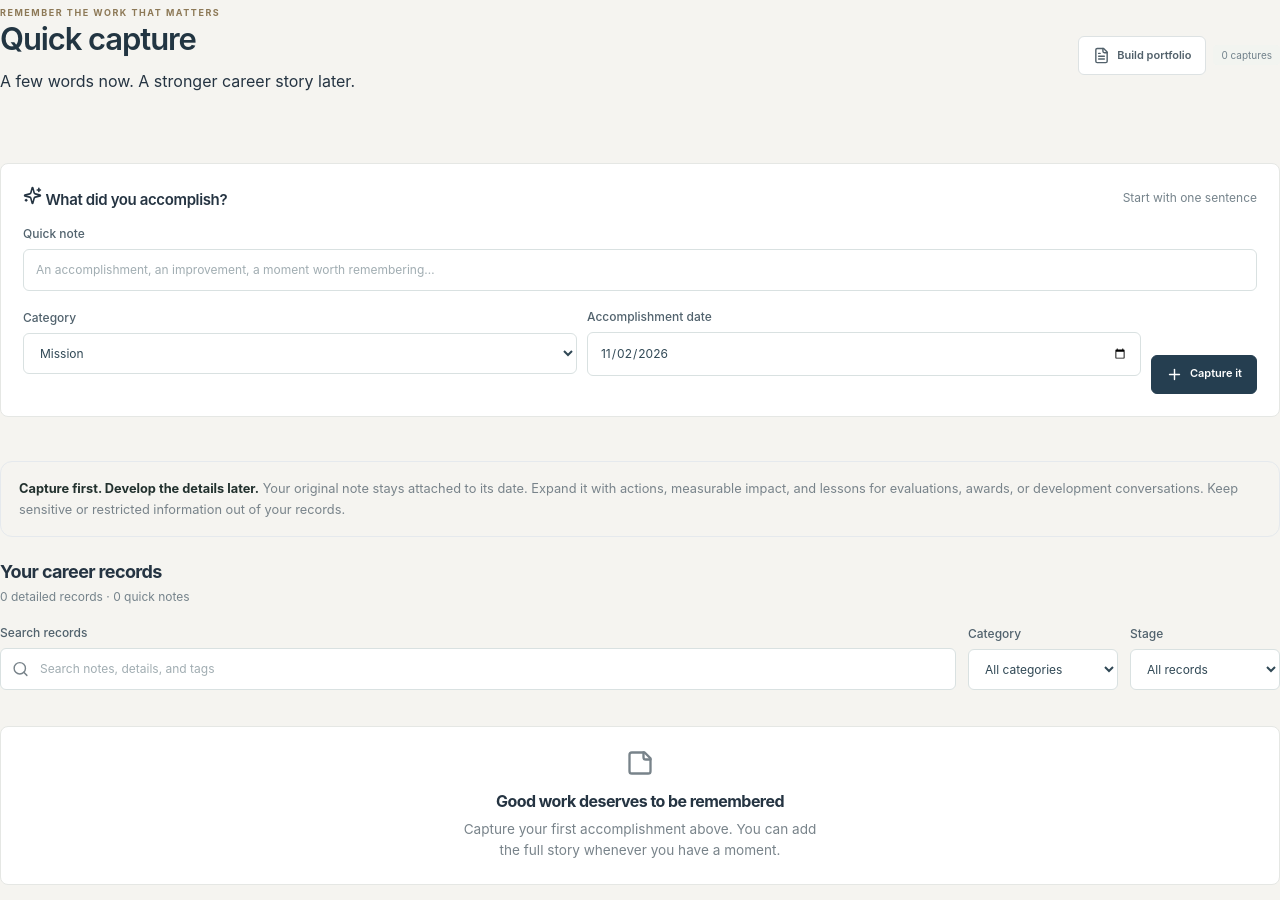
Scenario: professional date validation › rejects an invalid capture date before creating a record
Replace the text in the field labelled "Quick note" with "Accomplishment": (640, 270) top-left (23, 249), bottom-right (1257, 291)
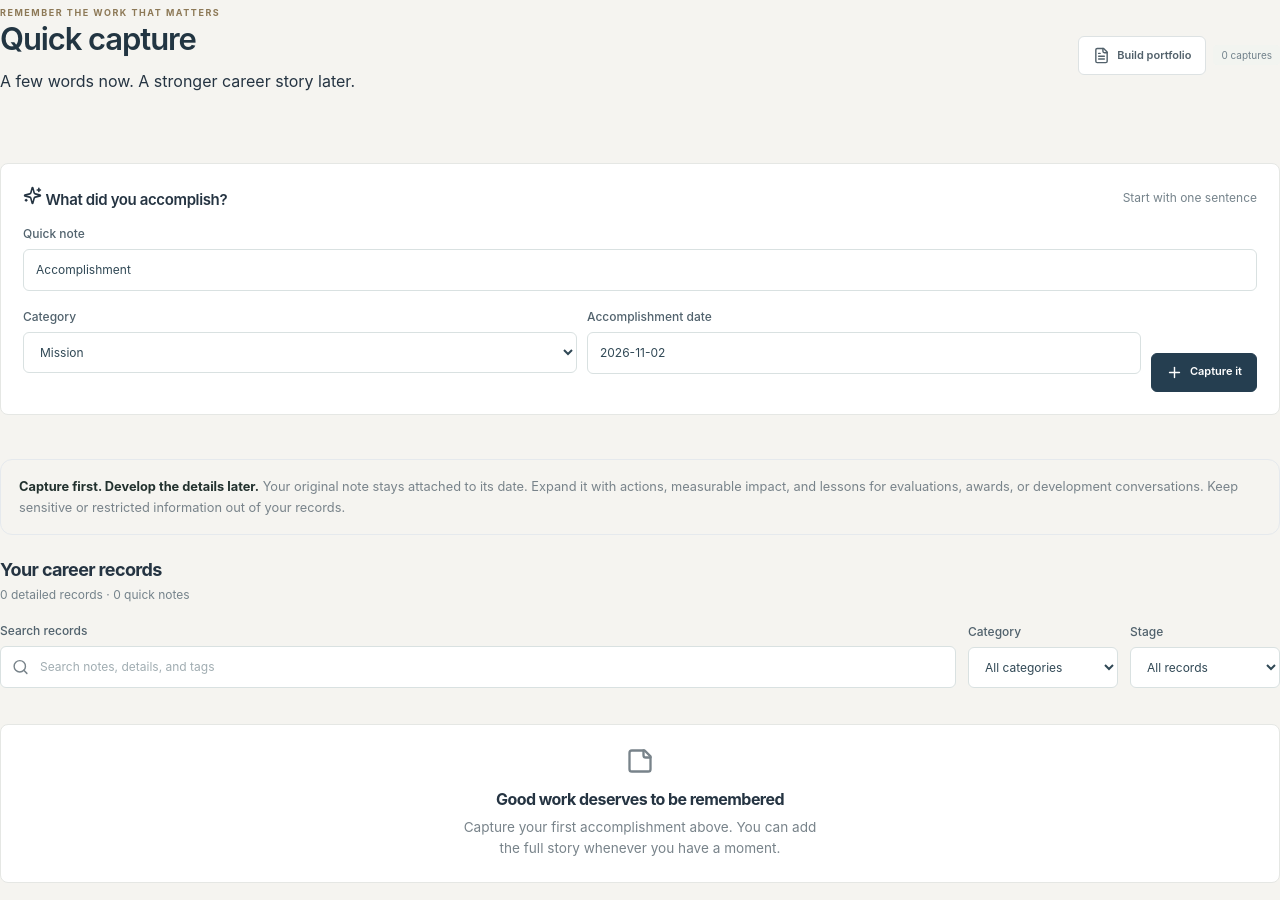
Replace the text in the field labelled "Accomplishment date" with "10000-01-01": (864, 353) top-left (587, 332), bottom-right (1141, 374)
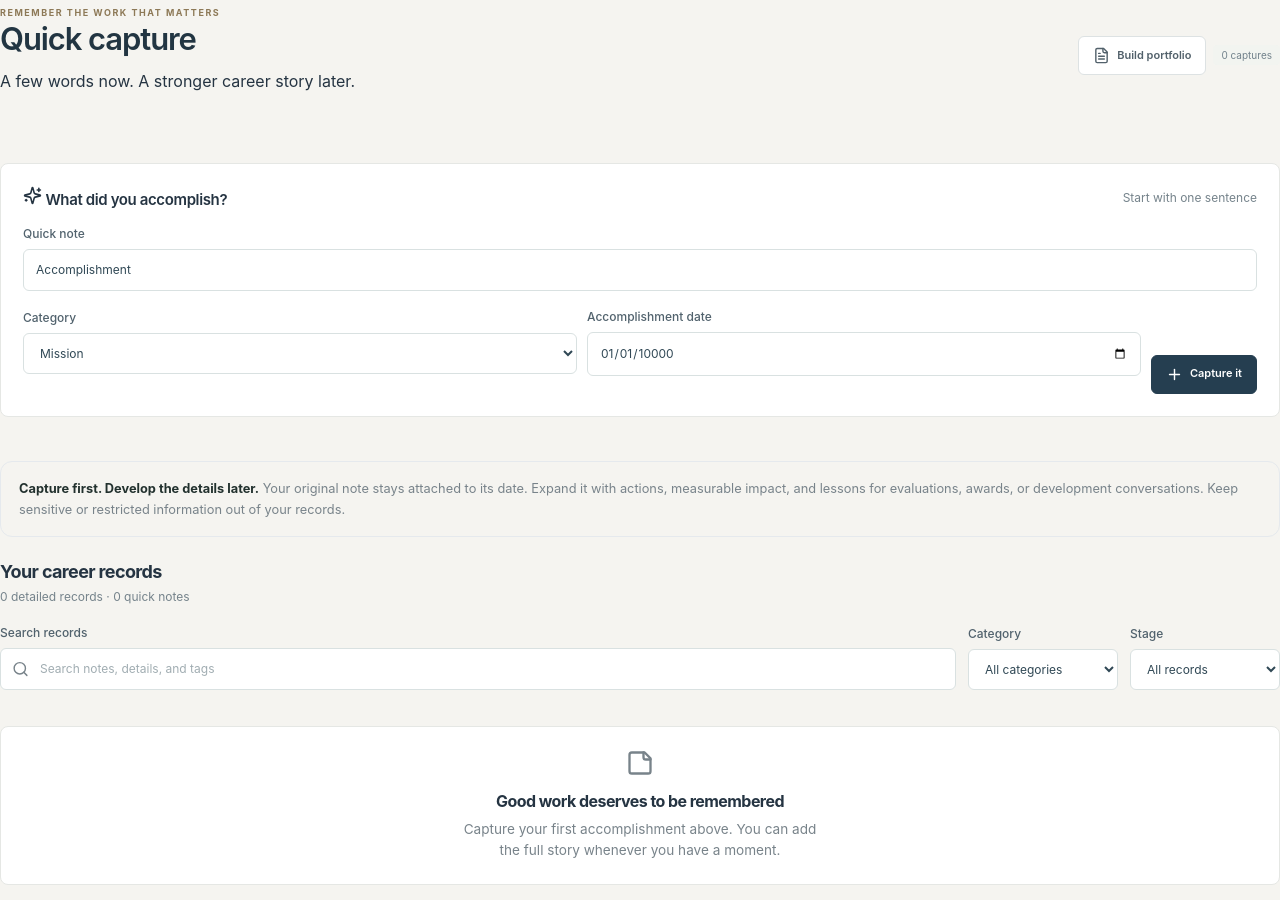
Submit the form labelled "Accomplishment date", box top-left (23, 226), bottom-right (1257, 394)
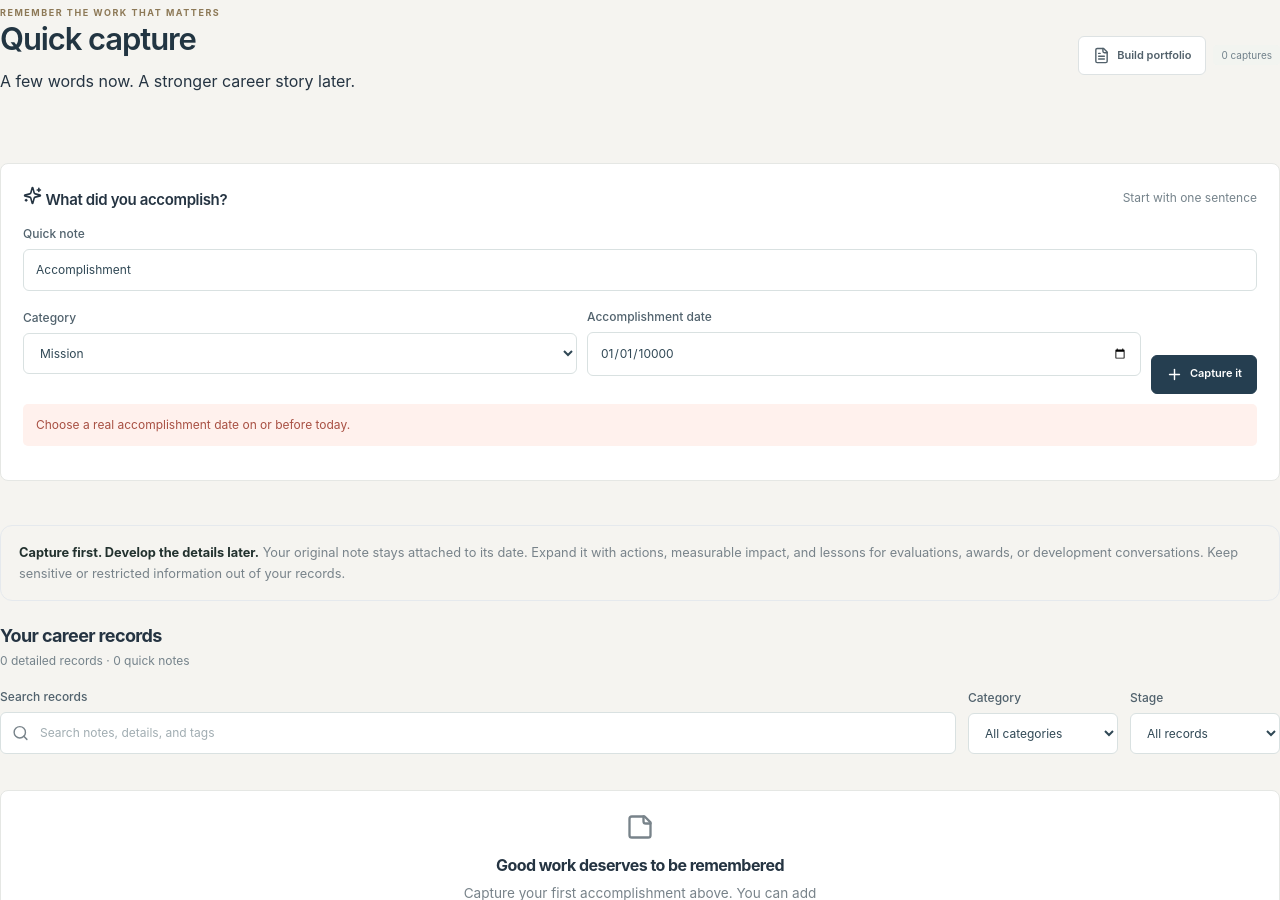
Result: the message shows "real accomplishment date" at top-left (36, 417), bottom-right (350, 432)
